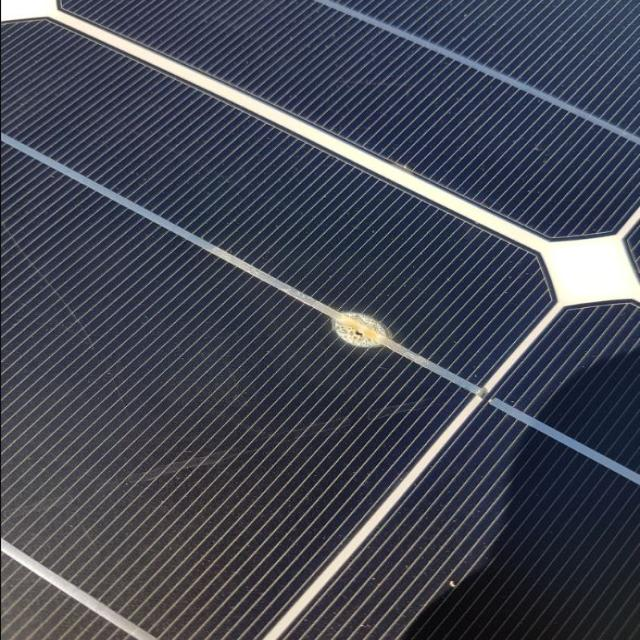Electrical-damage: (313, 292, 394, 371)
